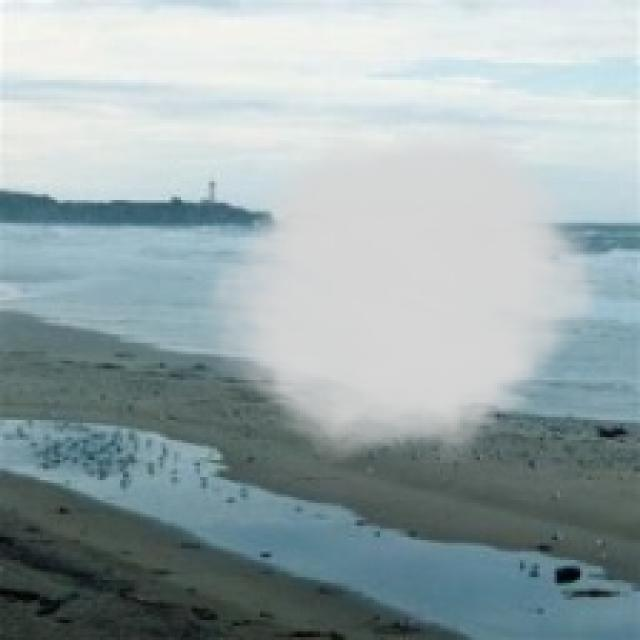smoke: (192, 111, 617, 463)
